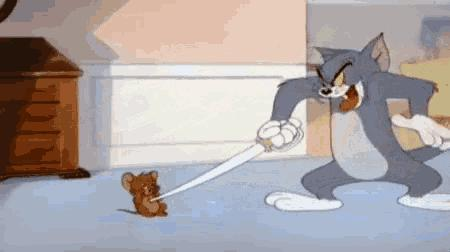jerry: (115, 170, 168, 219)
